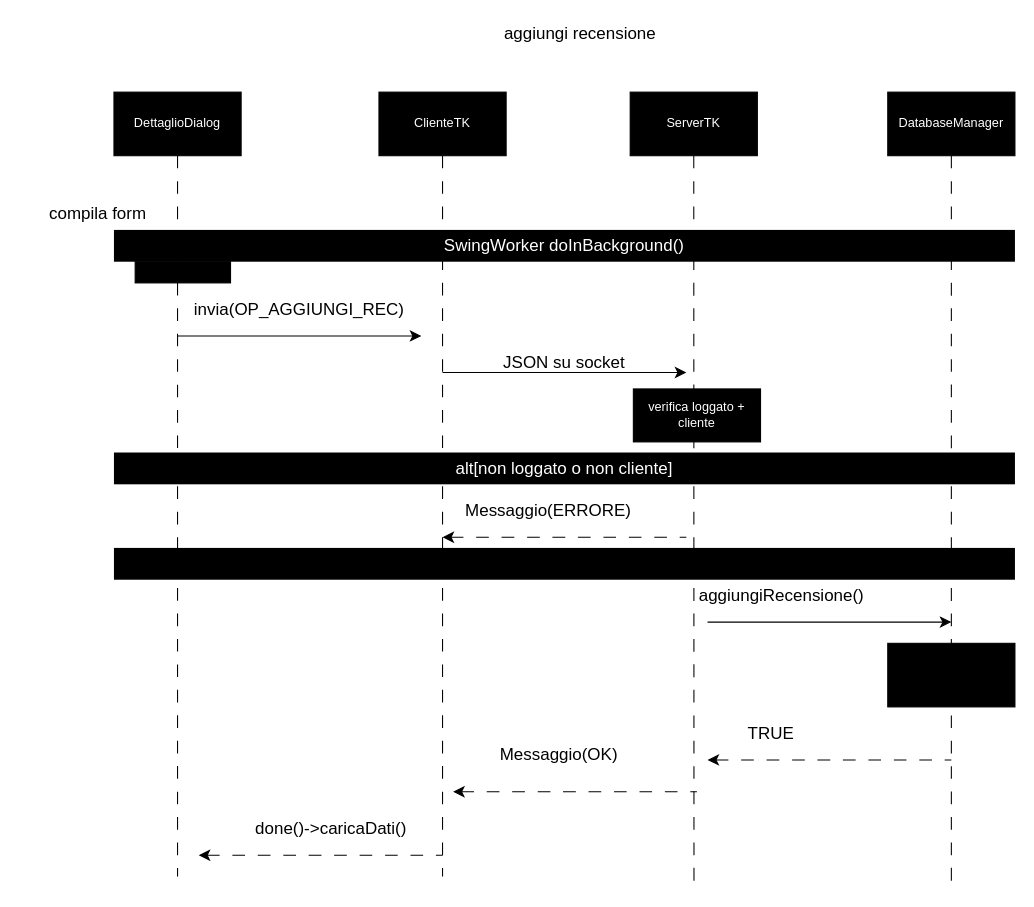
This 1034x907 diagram has some shape labels left out. The shapes that lost their labels are listed below. From the top down, each one's centre as x and y in pixels, then its label:
At (x=182, y=272): "crea req".
At (x=563, y=563): "else[autorizzato]".
At (x=951, y=674): "INSERT".
